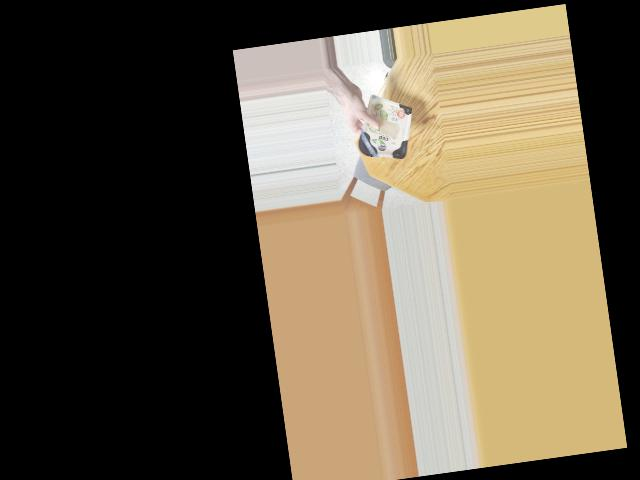cheese: (351, 100, 417, 166)
